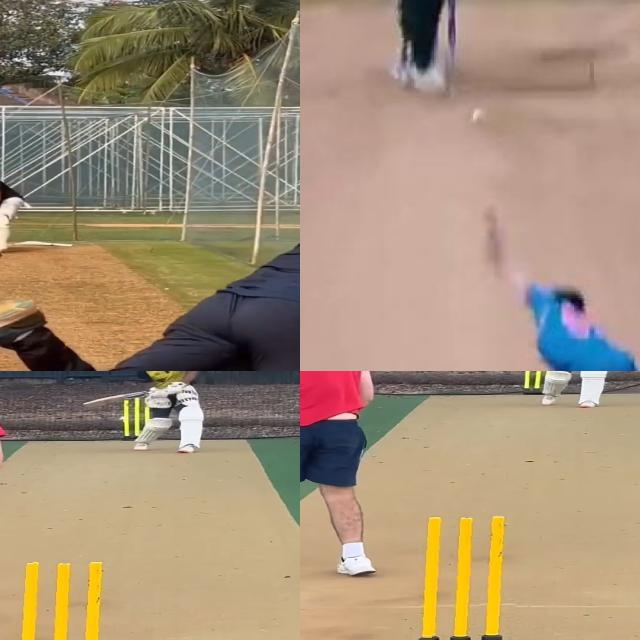Cricket ball: (471, 109, 485, 125), (119, 414, 127, 422), (0, 253, 3, 259)
Stumps: (418, 516, 524, 640), (10, 559, 122, 640), (121, 396, 151, 440), (523, 371, 555, 394)
